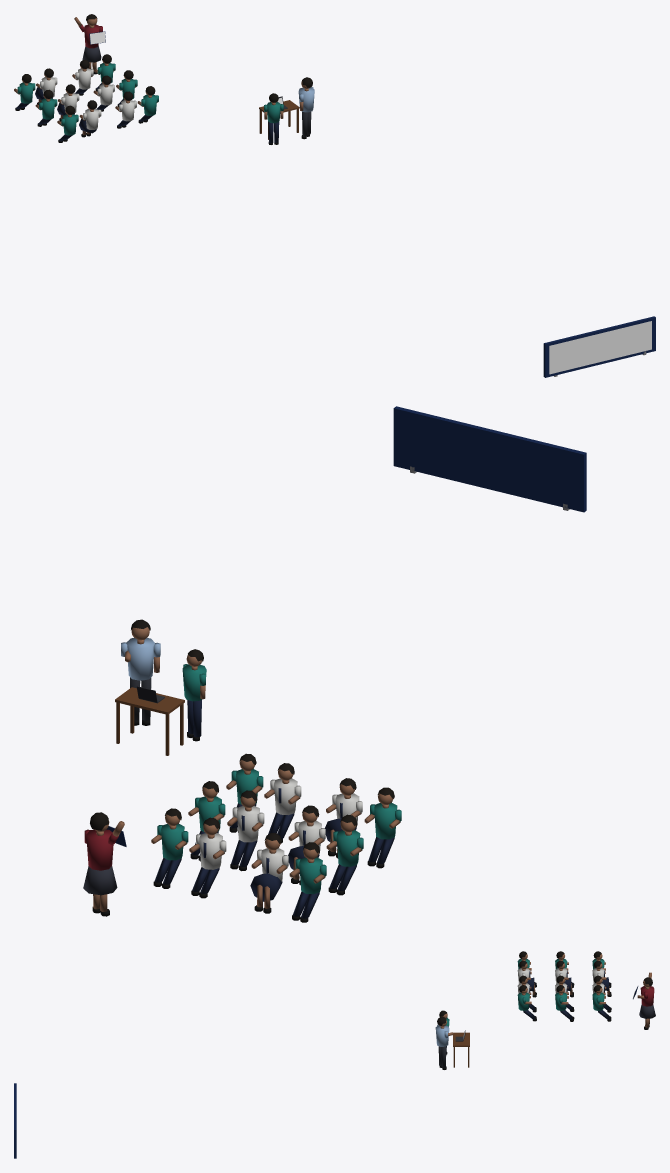
File: props.glb
3 renders of one model, top to bottom at view 1: azimuth 30°, elevation 25°; view 2: azimuth 150°, elevation 25°; view 3: azimuth 270°, elevation 25°, orthographic. The views are drawn at different scales.
Visible parts, largest first — view 1: props_figures, slot_gate; view 2: props_figures; view 3: props_figures.
Boxes of the visible parts, bbox=[...] form: props_figures: bbox=[14, 14, 655, 377]; slot_gate: bbox=[549, 321, 651, 374]; props_figures: bbox=[83, 406, 586, 922]; props_figures: bbox=[14, 951, 655, 1158].
Size of the model in its own units: 8.74 by 3.28 by 18.91.
